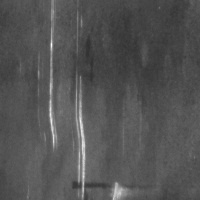scratches: (45, 1, 63, 150), (71, 69, 91, 197)
